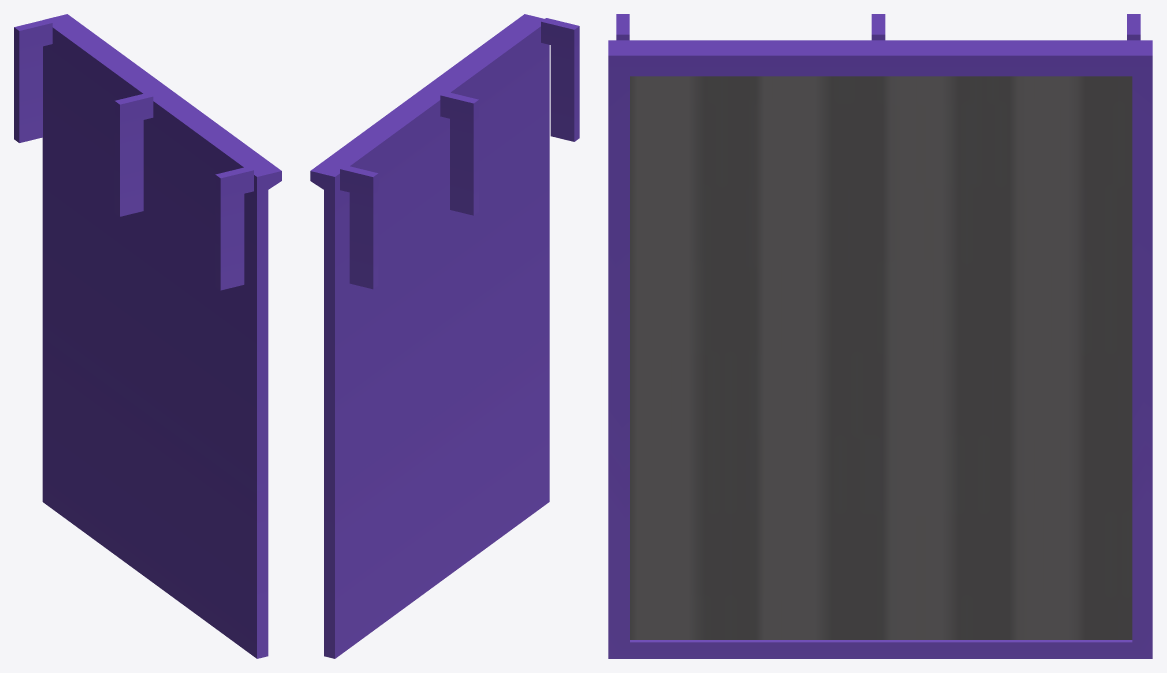
File: SignProp_2_C_5.fbx
3 renders of one model, left to right at view 1: azimuth 30°, elevation 25°; view 2: azimuth 150°, elevation 25°; view 3: azimuth 270°, elevation 25°, orthographic. The views are drawn at different scales.
Parts seen in each view (by area): view 1: SignProp_2_C_5; view 2: SignProp_2_C_5; view 3: SignProp_2_C_5.
Boxes of the visible parts, x1,y1,x2,y2 form: SignProp_2_C_5: [14, 14, 281, 658]; SignProp_2_C_5: [310, 14, 579, 658]; SignProp_2_C_5: [608, 14, 1152, 658].
Size of the model in its own units: 14.49 by 116 by 92.55.
